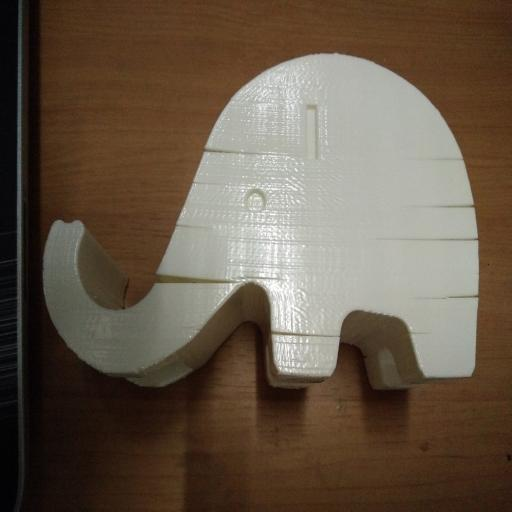cracks: (147, 265, 228, 306), (402, 225, 497, 255), (426, 292, 502, 328), (195, 144, 254, 184), (408, 148, 481, 179)
